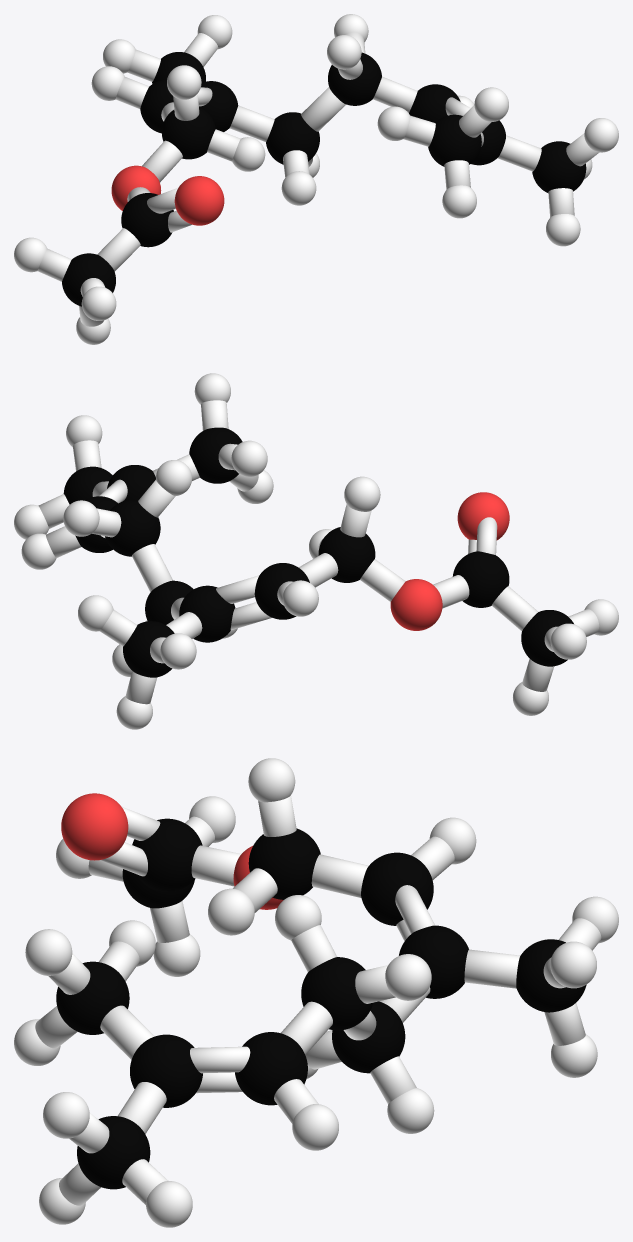
3 renders of one model, top to bottom at view 1: azimuth 30°, elevation 25°; view 2: azimuth 150°, elevation 25°; view 3: azimuth 270°, elevation 25°, orthographic. The views are drawn at different scales.
Parts seen in each view (by area): view 1: molecule; view 2: molecule; view 3: molecule.
Boxes of the visible parts, x1,y1,x2,y2 form: molecule: [14, 14, 618, 344]; molecule: [14, 373, 618, 729]; molecule: [14, 758, 618, 1227].
Bounding box in the file's own units: 11.16 × 4.21 × 7.75.
